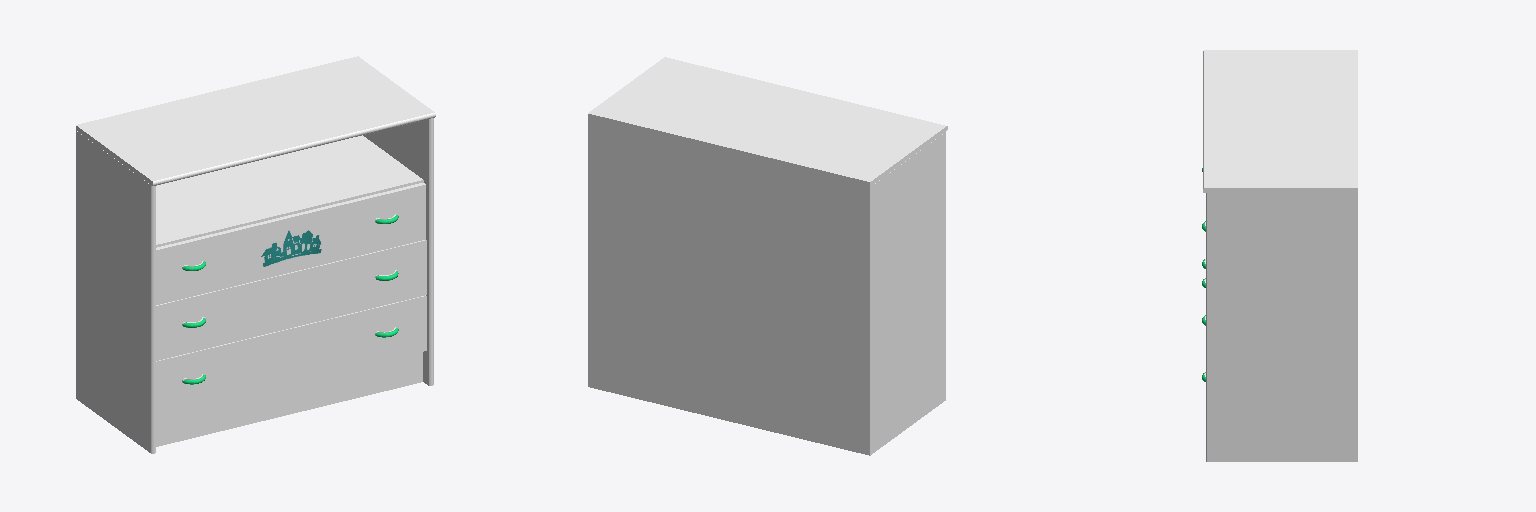
3 views of the same model, side by side, from view 1: azimuth 30°, elevation 25°; view 2: azimuth 150°, elevation 25°; view 3: azimuth 270°, elevation 25° (orthographic).
Parts seen in each view (by area): view 1: default_1_1, Cube_1_2; view 2: default_1_1; view 3: default_1_1.
Boxes of the visible parts, box(x1,y1,x2,y2) form: default_1_1: box(76, 56, 435, 453); Cube_1_2: box(156, 185, 425, 304); default_1_1: box(588, 57, 947, 455); default_1_1: box(1203, 50, 1357, 461).
Size of the model in its own units: 94 by 87 by 45.08.
4 materials, 1 textured.